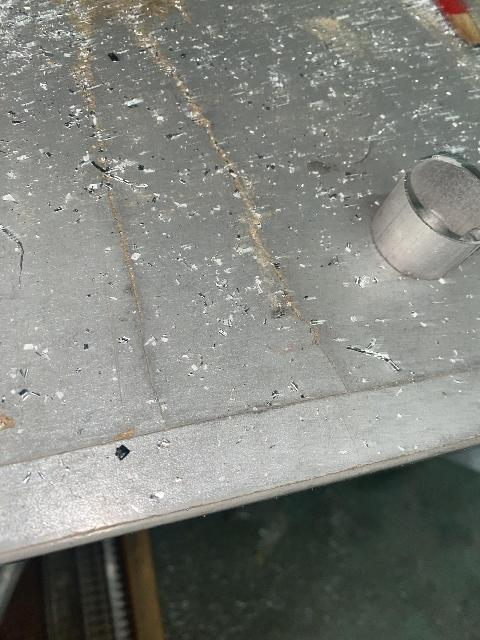Metal: (367, 148, 480, 286)
